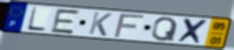E: (49, 8, 82, 36)
F: (112, 13, 148, 39)
K: (87, 11, 114, 38)
L: (25, 6, 48, 33)
Q: (150, 16, 180, 43)
X: (176, 17, 211, 46)
